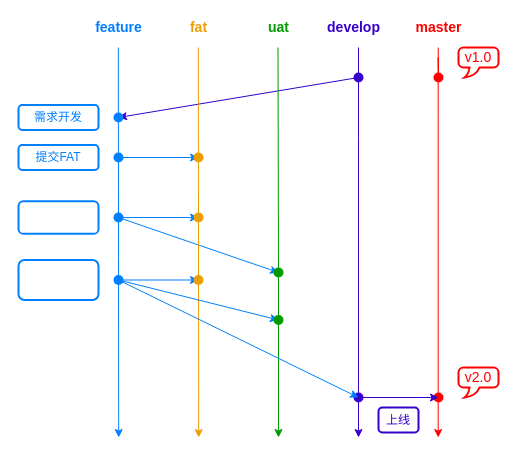
The diagram is 516 pixels wide and 463 high, and some of its shapes have lost their labels. Each missing label, with the box of its shape:
修复FAT故障 提交UAT: (17, 200, 99, 234)
修复UAT故障 回归代码: (17, 258, 99, 300)
